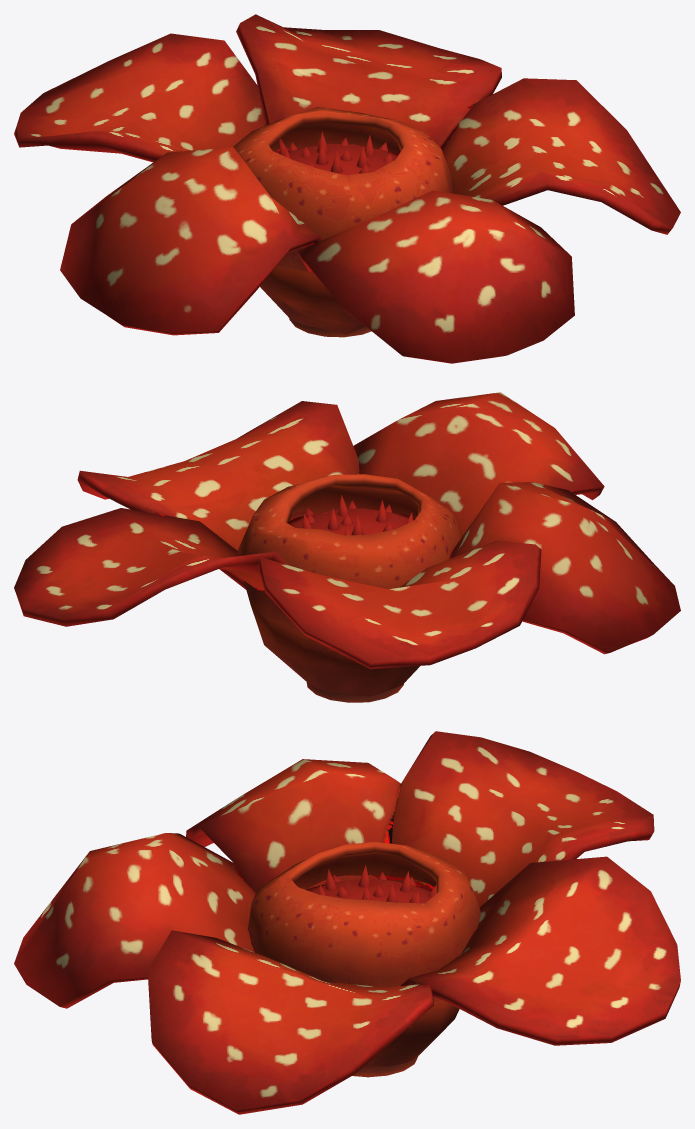
The model's file is Rafflesia.fbx.
3 views of the same model, one above another, from view 1: azimuth 30°, elevation 25°; view 2: azimuth 150°, elevation 25°; view 3: azimuth 270°, elevation 25° (orthographic). The views are drawn at different scales.
Visible parts, largest first — view 1: Rafflesia.001; view 2: Rafflesia.001; view 3: Rafflesia.001.
Boxes of the visible parts, x1,y1,x2,y2 form: Rafflesia.001: (14, 14, 680, 363); Rafflesia.001: (14, 392, 680, 702); Rafflesia.001: (14, 731, 680, 1114).
Bounding box in the file's own units: 1.03 × 0.3753 × 1.03.
